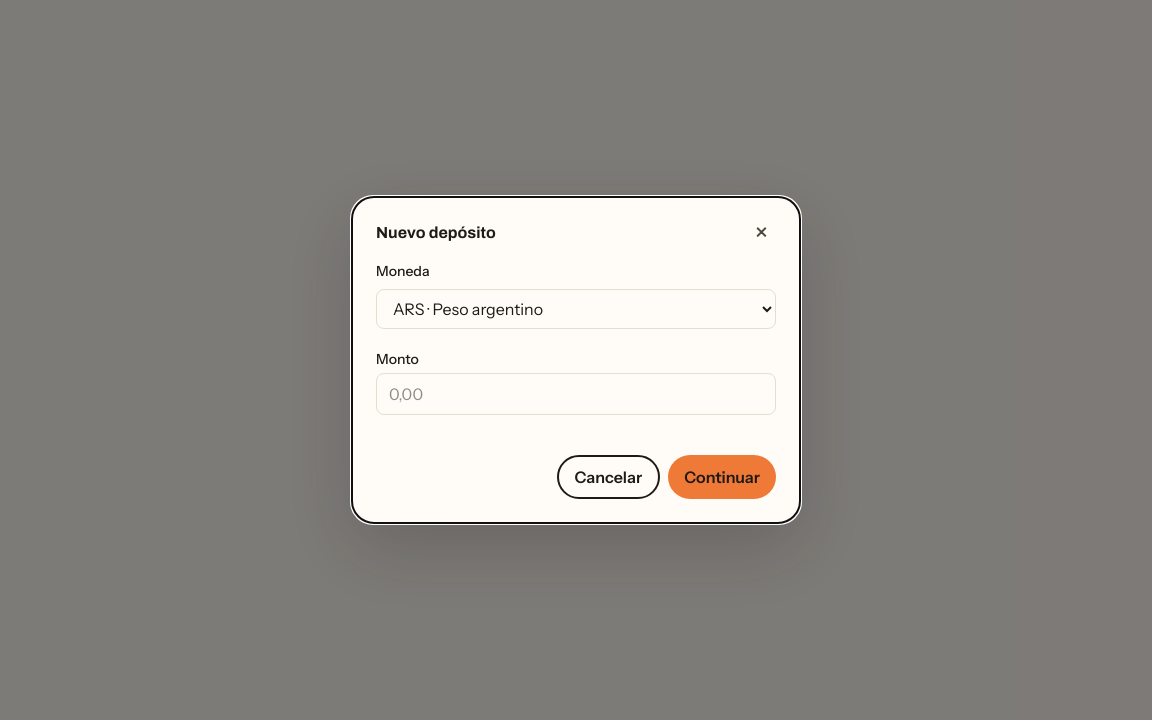
DepositModal › no avanza con un monto inválido
The image size is (1152, 720).
Type "0" into the field labelled "Monto" at (576, 394), box 376,373 -> 776,415
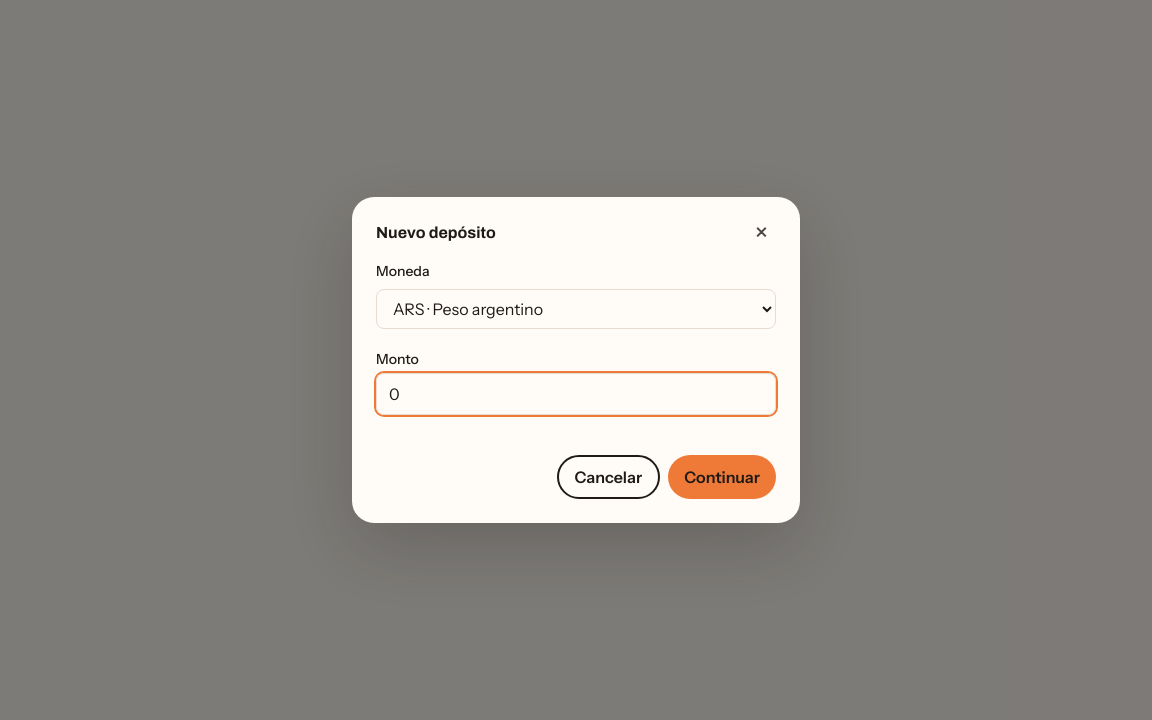
Click the button "Continuar" at (722, 477), box 668,455 -> 776,499
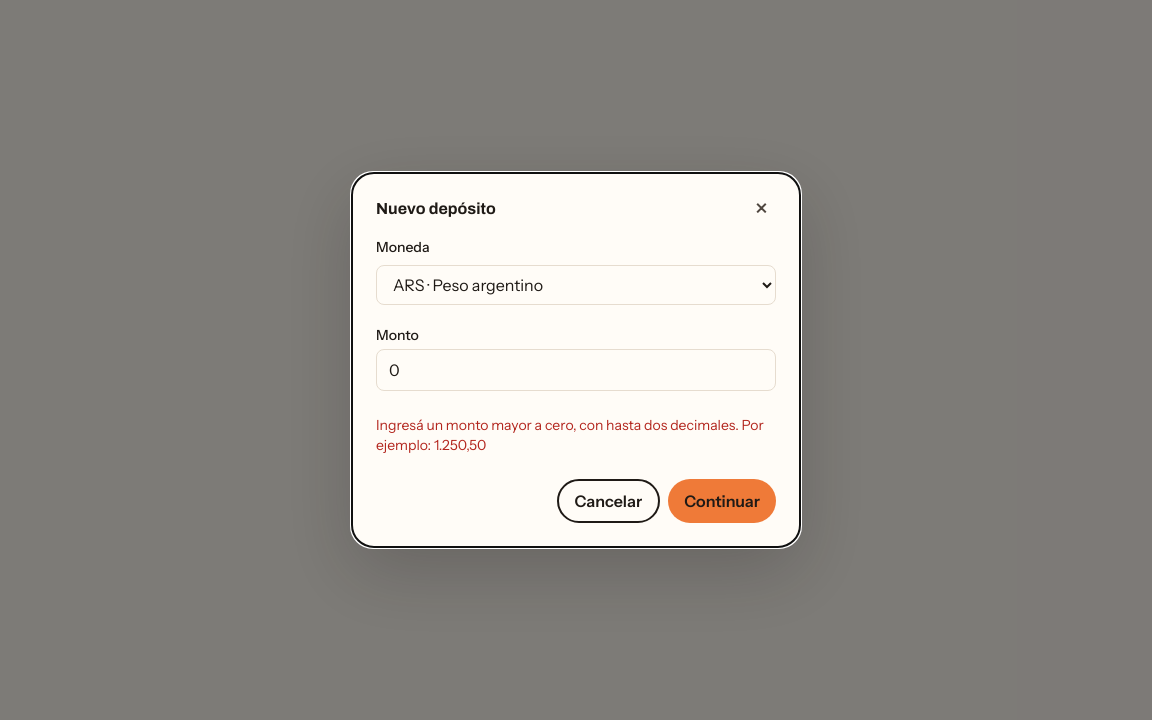
expect the dialog "Nuevo depósito" is shown: met, box 352,173 -> 800,547
expect the message shows "Ingresá un monto mayor a cero, con hasta dos decimales.": met, box 376,416 -> 764,454
